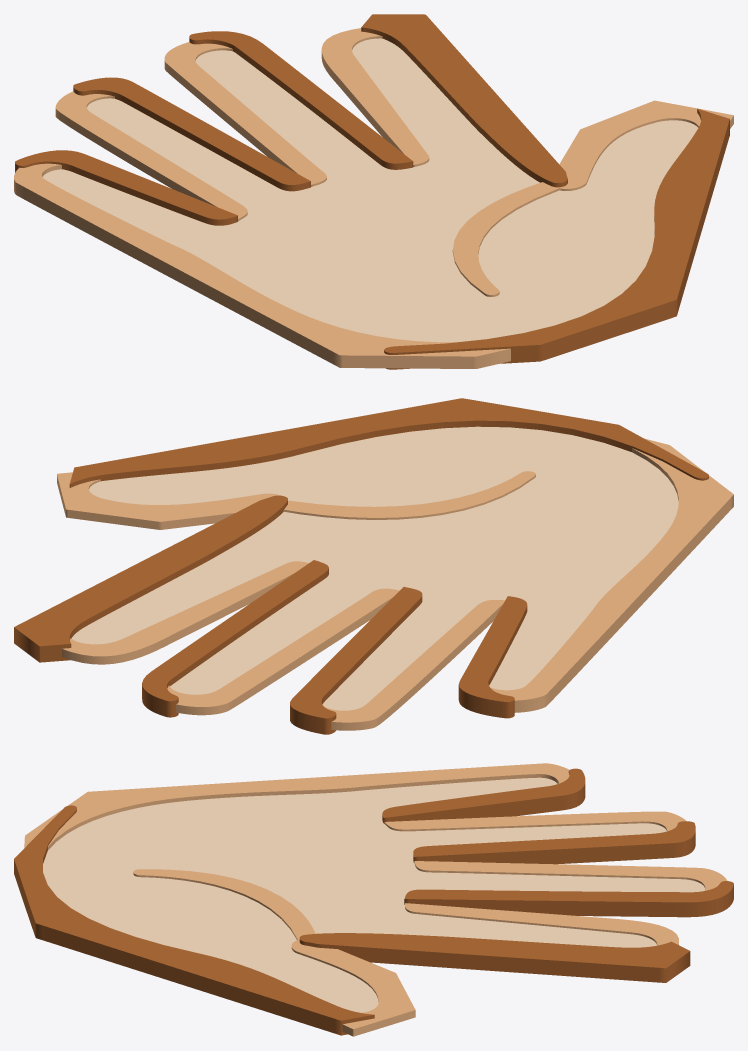
The model's file is emoji_u1f590_1f3fb.glb.
3 renders of one model, top to bottom at view 1: azimuth 30°, elevation 25°; view 2: azimuth 150°, elevation 25°; view 3: azimuth 270°, elevation 25°, orthographic. The views are drawn at different scales.
Visible parts, largest first — view 1: emoji_u1f590_1f3fb; view 2: emoji_u1f590_1f3fb; view 3: emoji_u1f590_1f3fb.
Boxes of the visible parts, x1=… form: emoji_u1f590_1f3fb: x1=14, y1=14, x2=733, y2=369; emoji_u1f590_1f3fb: x1=14, y1=398, x2=733, y2=734; emoji_u1f590_1f3fb: x1=14, y1=763, x2=733, y2=1036.
Bounding box in the file's own units: 0.0306 × 0.0008 × 0.0352.
